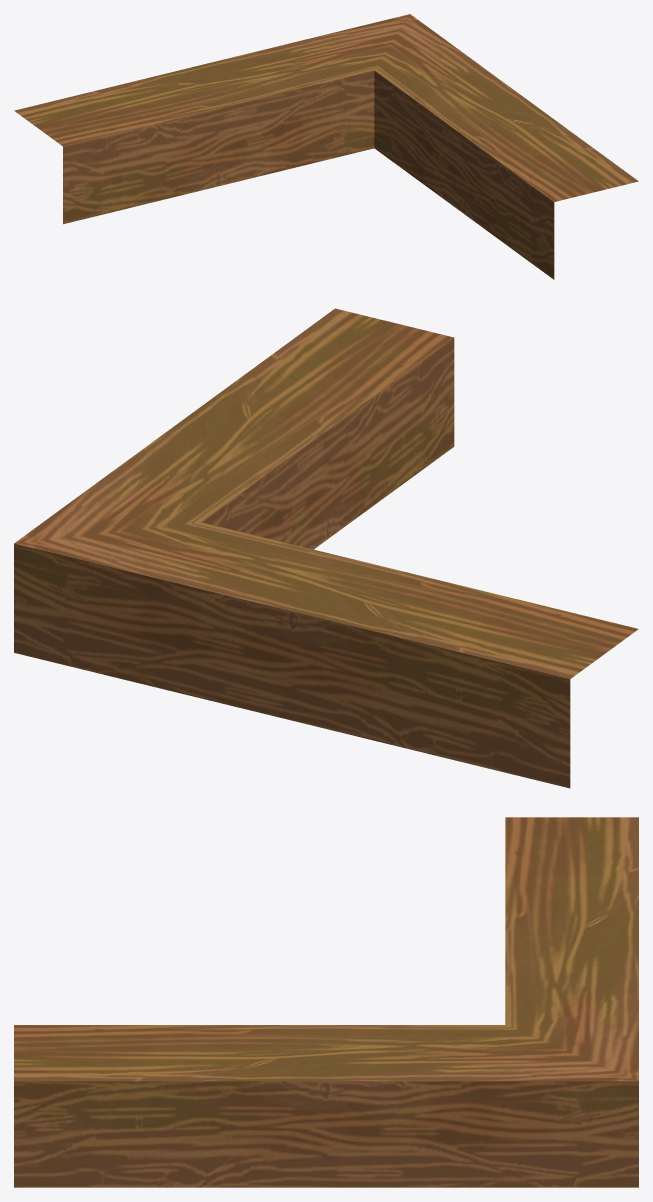
The model's file is holecover-90half.glb.
3 views of the same model, one above another, from view 1: azimuth 30°, elevation 25°; view 2: azimuth 150°, elevation 25°; view 3: azimuth 270°, elevation 25° (orthographic). The views are drawn at different scales.
Parts seen in each view (by area): view 1: HoleCover_90Half; view 2: HoleCover_90Half; view 3: HoleCover_90Half.
Part boxes in pixels (x1,y1,x2,y2): HoleCover_90Half: (14, 14, 638, 279); HoleCover_90Half: (14, 308, 638, 788); HoleCover_90Half: (14, 817, 638, 1187).
Bounding box in the file's own units: 1.12 × 0.2102 × 1.12.
Materials: 1 (1 with a texture image).
